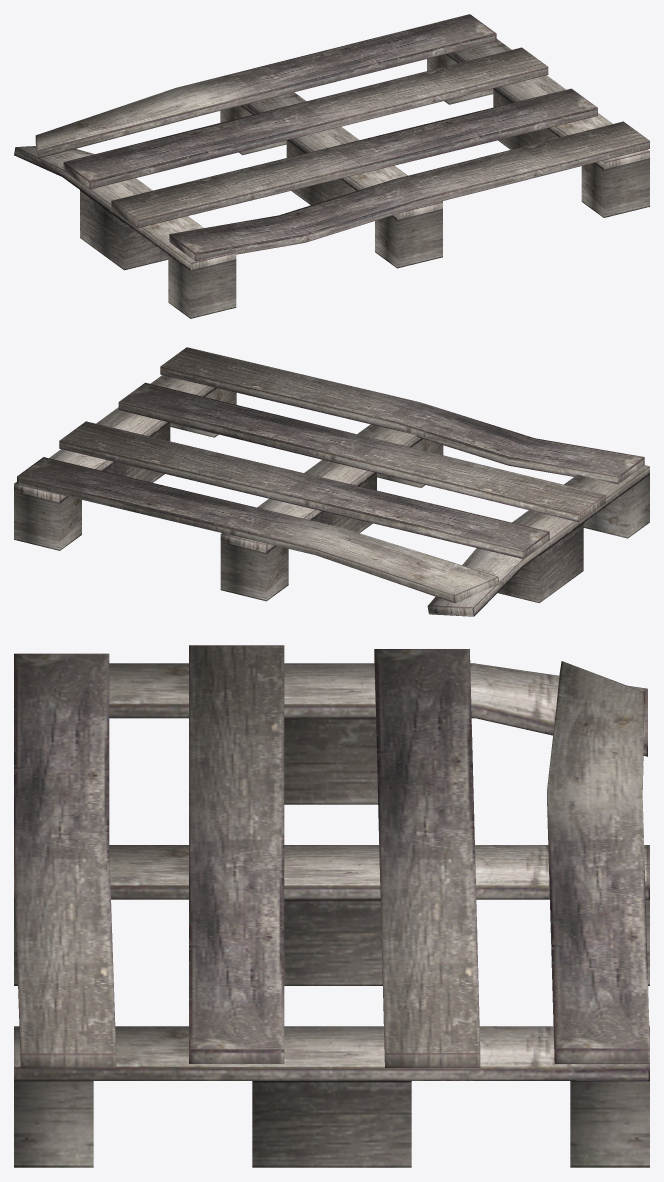
Rendered from Pallet.obj.
3 views of the same model, one above another, from view 1: azimuth 30°, elevation 25°; view 2: azimuth 150°, elevation 25°; view 3: azimuth 270°, elevation 25° (orthographic). The views are drawn at different scales.
Visible parts, largest first — view 1: Pallet; view 2: Pallet; view 3: Pallet.
Part boxes in pixels (box(x1,y1,x2,y2)): Pallet: box(14, 14, 649, 318); Pallet: box(14, 347, 649, 616); Pallet: box(14, 645, 649, 1167).
Size of the model in its own units: 12.16 by 1.6 by 8.
